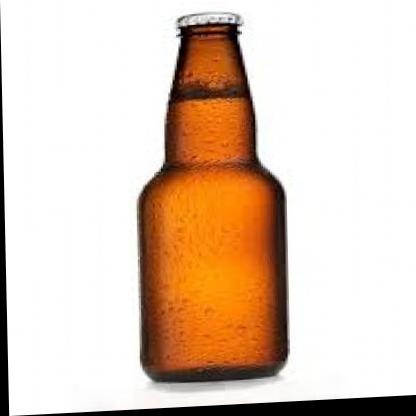trash: (139, 13, 287, 381)
